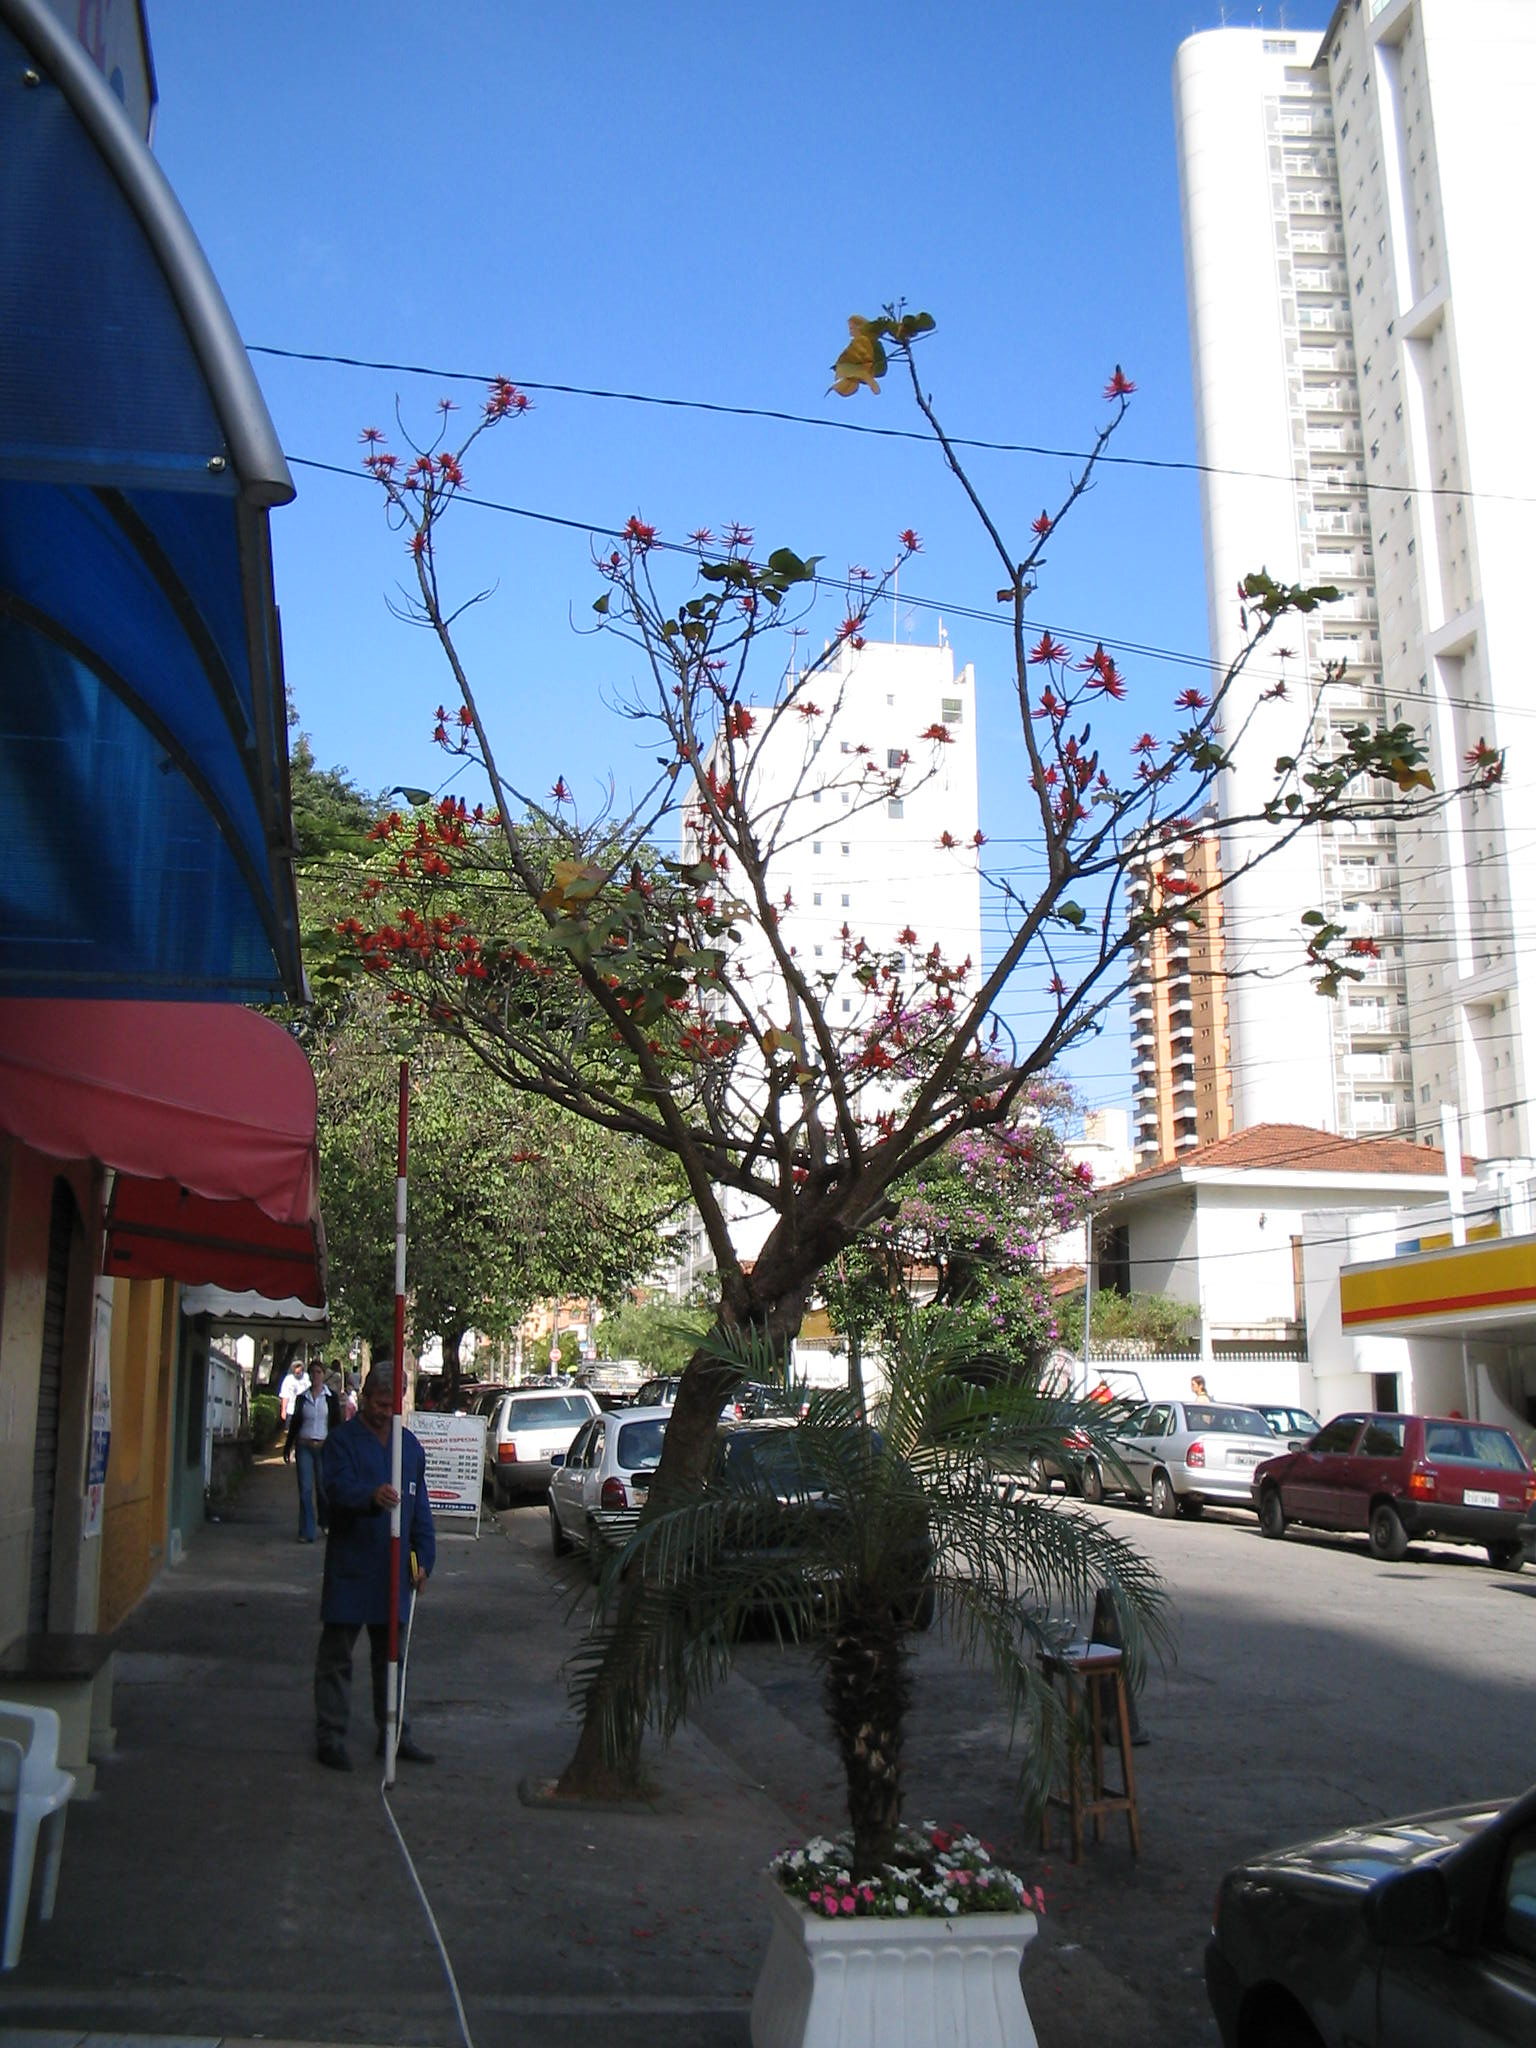stem: (545, 1311, 799, 1795)
stick: (352, 1058, 440, 1792)
tree: (337, 311, 1507, 1803)
